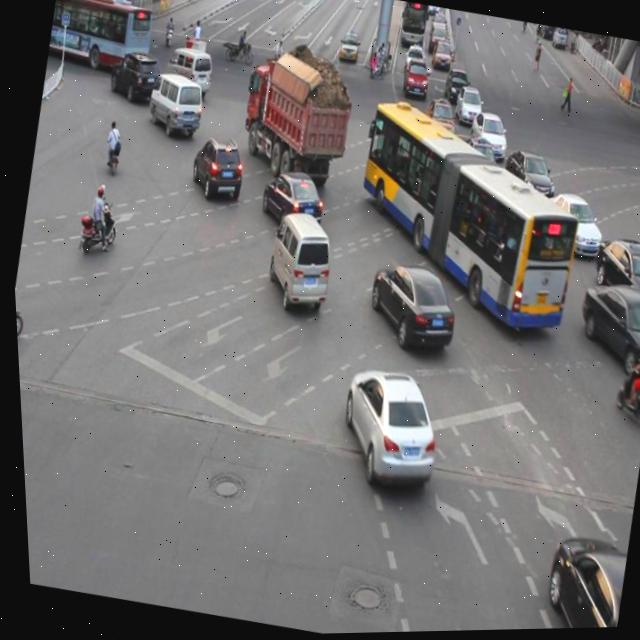bus: (230, 56, 358, 192)
car: (326, 362, 444, 494), (520, 528, 626, 631), (357, 259, 461, 359), (564, 279, 640, 390), (252, 164, 328, 242), (477, 197, 549, 276), (581, 233, 640, 327), (533, 190, 606, 262), (185, 131, 247, 205), (107, 47, 166, 106), (498, 146, 558, 202), (452, 136, 502, 190), (463, 111, 511, 164), (418, 99, 457, 146)
truck: (256, 207, 339, 316), (141, 69, 208, 140), (161, 45, 216, 101)
van: (335, 97, 594, 339)
